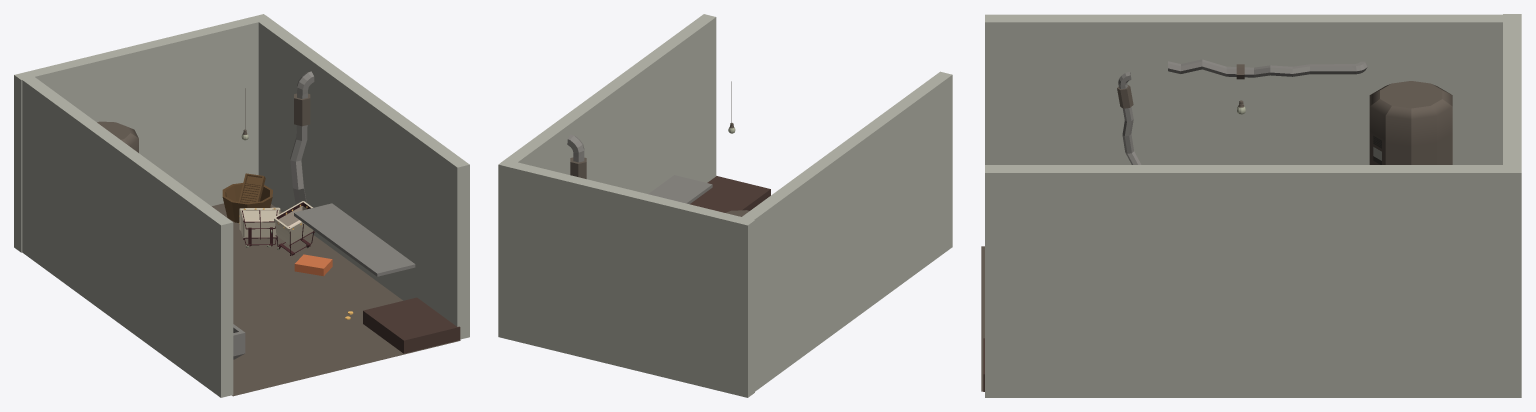
The model's file is Laundry_room.fbx.
3 views of the same model, side by side, from view 1: azimuth 30°, elevation 25°; view 2: azimuth 150°, elevation 25°; view 3: azimuth 270°, elevation 25° (orthographic). The views are drawn at different scales.
Visible parts, largest first — view 1: Teacup_room:walls, polySurface266, polySurface267, polySurface360, polySurface269, polySurface368, polySurface320, polySurface369, polySurface268, polySurface262; view 2: Teacup_room:walls, polySurface360, polySurface267, polySurface269; view 3: Teacup_room:walls, polySurface262, polySurface364, polySurface266.
Part boxes in pixels (x1,y1,x2,y2): Teacup_room:walls: [14, 14, 469, 397]; polySurface266: [212, 203, 460, 396]; polySurface267: [294, 203, 415, 276]; polySurface360: [363, 297, 460, 353]; polySurface269: [290, 71, 314, 204]; polySurface368: [222, 173, 272, 222]; polySurface320: [239, 207, 280, 247]; polySurface369: [274, 201, 314, 255]; polySurface268: [294, 254, 332, 276]; polySurface262: [97, 121, 138, 152]; Teacup_room:walls: [498, 14, 952, 397]; polySurface360: [690, 176, 770, 212]; polySurface267: [648, 175, 712, 204]; polySurface269: [567, 134, 586, 178]; Teacup_room:walls: [985, 14, 1521, 397]; polySurface262: [1369, 81, 1452, 164]; polySurface364: [1117, 59, 1367, 164]; polySurface266: [981, 246, 984, 391].
Size of the model in its own units: 32.93 by 26.24 by 47.31.
Materials: 15 (15 with a texture image).
